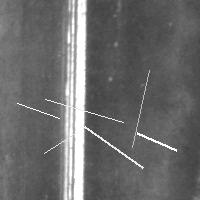scratches: (56, 1, 88, 199), (80, 122, 148, 173), (40, 94, 128, 127), (127, 65, 154, 152), (132, 128, 181, 155), (12, 98, 64, 123), (39, 128, 80, 158)
